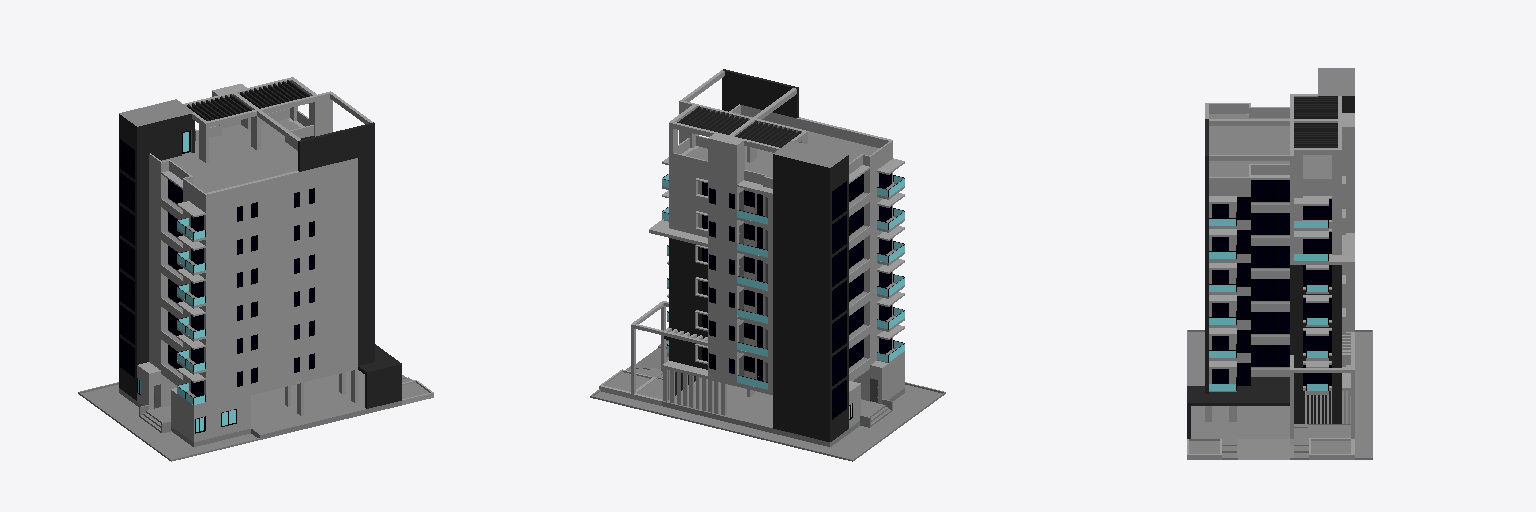
The model's file is edificioV2.obj.
3 views of the same model, side by side, from view 1: azimuth 30°, elevation 25°; view 2: azimuth 150°, elevation 25°; view 3: azimuth 270°, elevation 25° (orthographic).
Parts seen in each view (by area): view 1: AB1_OBJ_01, AB1_OBJ_06, AB1_OBJ_09, AB1_OBJ_02, AB1_OBJ_13, AB1_OBJ_11, AB1_OBJ_12, AB1_OBJ_10, AB1_OBJ_03, AB1_OBJ_08; view 2: AB1_OBJ_01, AB1_OBJ_06, AB1_OBJ_09, AB1_OBJ_02, AB1_OBJ_12, AB1_OBJ_11, AB1_OBJ_03, AB1_OBJ_13, AB1_OBJ_10; view 3: AB1_OBJ_09, AB1_OBJ_02, AB1_OBJ_06, AB1_OBJ_01, AB1_OBJ_12, AB1_OBJ_13, AB1_OBJ_03, AB1_OBJ_10, AB1_OBJ_11.
Part boxes in pixels (left/top/right/bottom): AB1_OBJ_01: left=119, top=118, right=374, bottom=402; AB1_OBJ_06: left=119, top=77, right=374, bottom=204; AB1_OBJ_09: left=78, top=370, right=433, bottom=461; AB1_OBJ_02: left=120, top=139, right=314, bottom=386; AB1_OBJ_13: left=162, top=119, right=300, bottom=192; AB1_OBJ_11: left=119, top=352, right=357, bottom=441; AB1_OBJ_12: left=171, top=98, right=332, bottom=408; AB1_OBJ_10: left=358, top=344, right=401, bottom=408; AB1_OBJ_03: left=191, top=215, right=203, bottom=396; AB1_OBJ_08: left=137, top=378, right=236, bottom=433; AB1_OBJ_01: left=669, top=146, right=892, bottom=405; AB1_OBJ_06: left=669, top=69, right=892, bottom=207; AB1_OBJ_09: left=590, top=340, right=945, bottom=461; AB1_OBJ_02: left=702, top=165, right=869, bottom=419; AB1_OBJ_12: left=649, top=106, right=904, bottom=393; AB1_OBJ_11: left=662, top=355, right=904, bottom=441; AB1_OBJ_03: left=739, top=173, right=891, bottom=381; AB1_OBJ_13: left=686, top=116, right=879, bottom=177; AB1_OBJ_10: left=631, top=301, right=707, bottom=398; AB1_OBJ_09: left=1187, top=330, right=1372, bottom=459; AB1_OBJ_02: left=1237, top=175, right=1289, bottom=385; AB1_OBJ_06: left=1205, top=68, right=1354, bottom=195; AB1_OBJ_01: left=1205, top=114, right=1354, bottom=393; AB1_OBJ_12: left=1209, top=161, right=1354, bottom=394; AB1_OBJ_13: left=1209, top=114, right=1331, bottom=178; AB1_OBJ_03: left=1212, top=199, right=1331, bottom=385; AB1_OBJ_10: left=1187, top=332, right=1354, bottom=438; AB1_OBJ_11: left=1205, top=365, right=1350, bottom=423.
Bounding box in the file's own units: 999 × 1014 × 613.